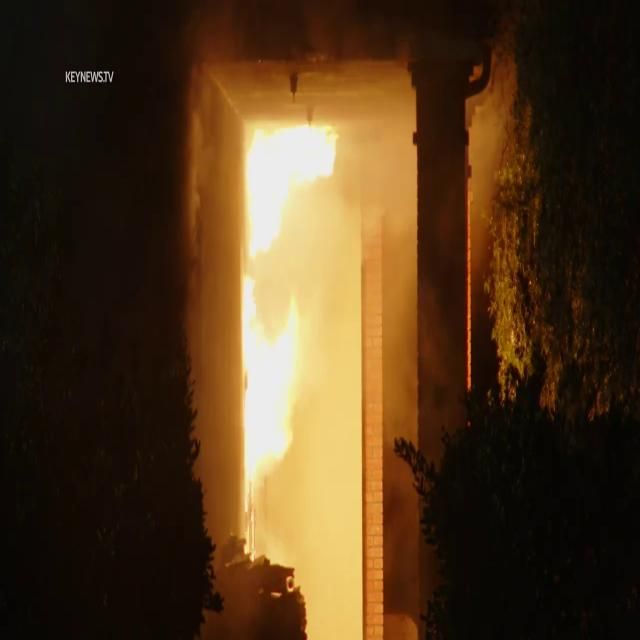Fire: (233, 110, 327, 524)
